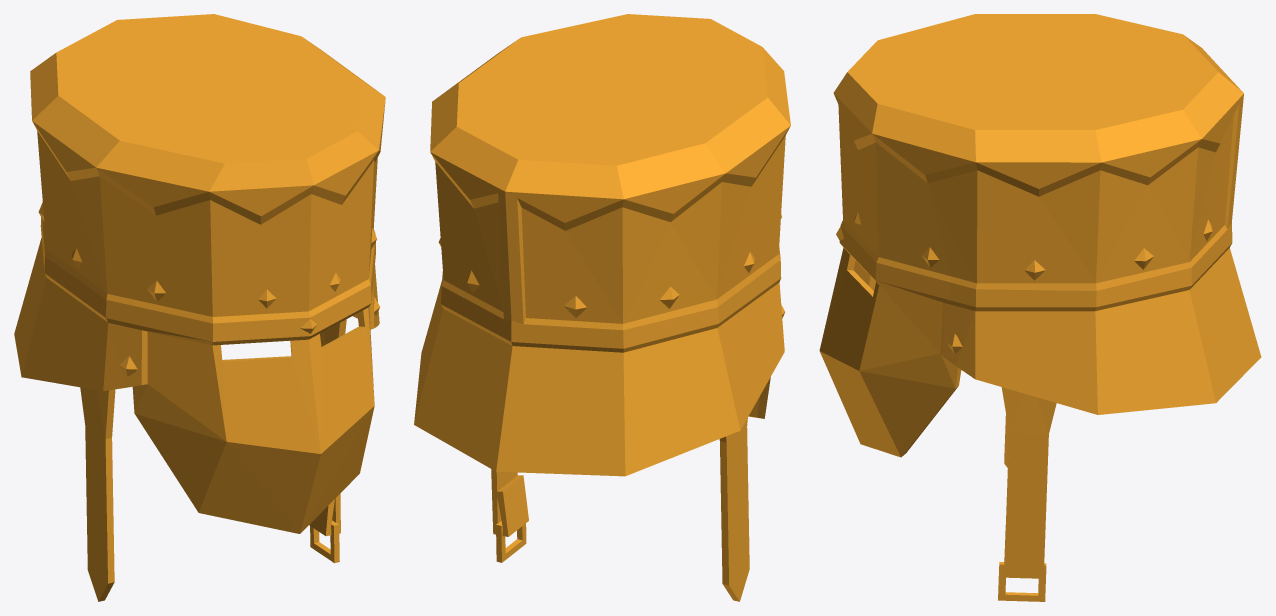
File: SM_Helmet_Great_Helm_B.fbx
The picture shows the model from 3 angles, left to right: view 1: azimuth 30°, elevation 25°; view 2: azimuth 150°, elevation 25°; view 3: azimuth 270°, elevation 25°; orthographic projection. The views are drawn at different scales.
Visible parts, largest first — view 1: helmet-great-helm-b; view 2: helmet-great-helm-b; view 3: helmet-great-helm-b.
Boxes of the visible parts, left/top/right/bottom form: helmet-great-helm-b: left=14, top=14, right=385, bottom=601; helmet-great-helm-b: left=414, top=14, right=790, bottom=601; helmet-great-helm-b: left=819, top=14, right=1261, bottom=601.
Bounding box in the file's own units: 0.2367 × 0.3508 × 0.2944.
